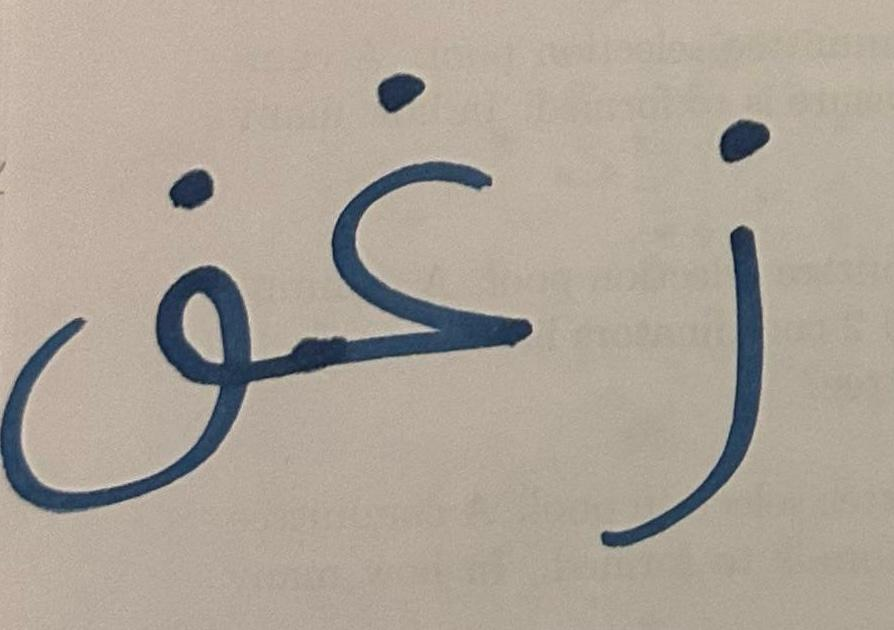feh: (1, 137, 298, 538)
ghain: (301, 33, 584, 484)
hamza: (588, 63, 849, 570)
